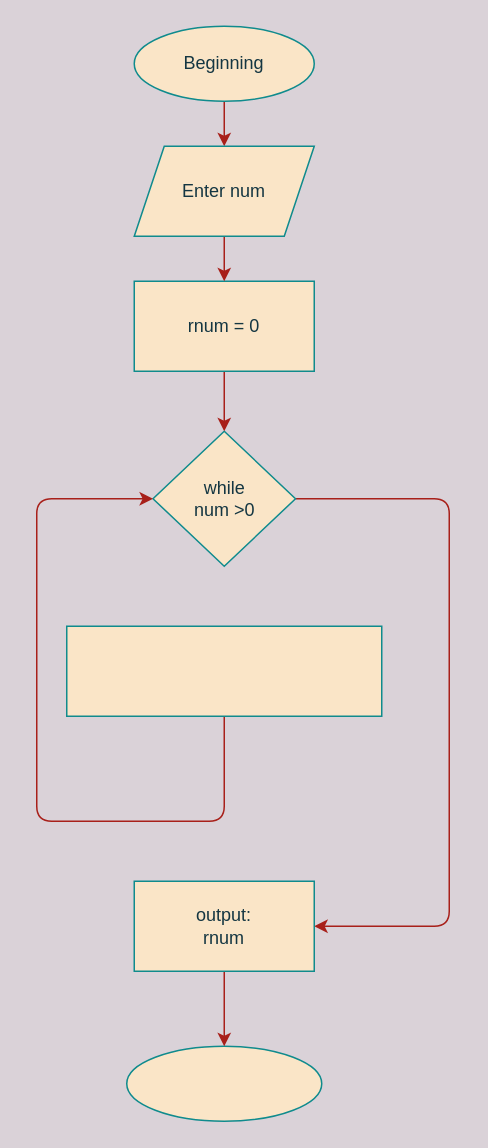
Some shapes in this 488 by 1148 pixel diagram are drawn without their labels. Here are the shapes that lost their labels. From the top down, the centre of each, then its label:
At [223,670]: "rnum = rnum*10 + num%10 num //= 10".
At [223,1083]: "End".
